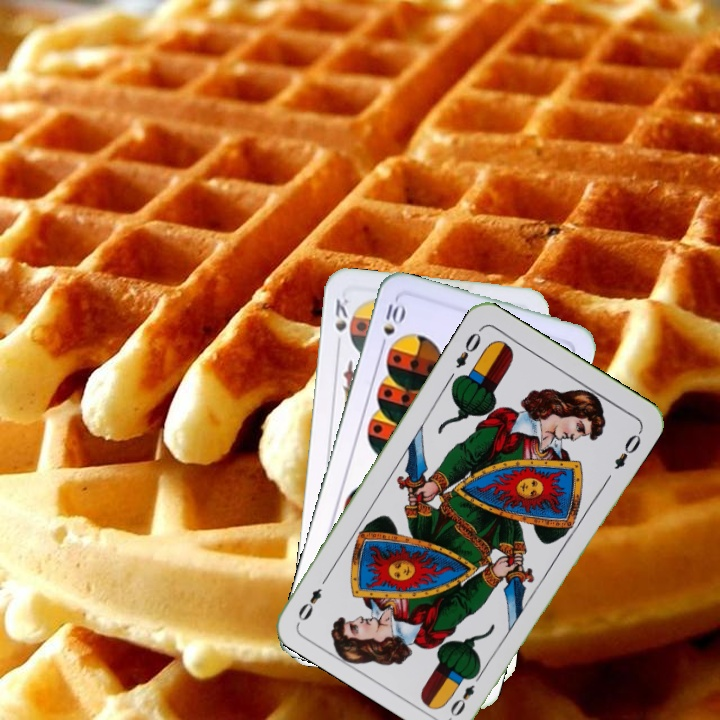EO: (446, 667, 486, 719), (451, 328, 484, 371)
S10: (376, 296, 407, 353)
SK: (331, 294, 351, 334)
